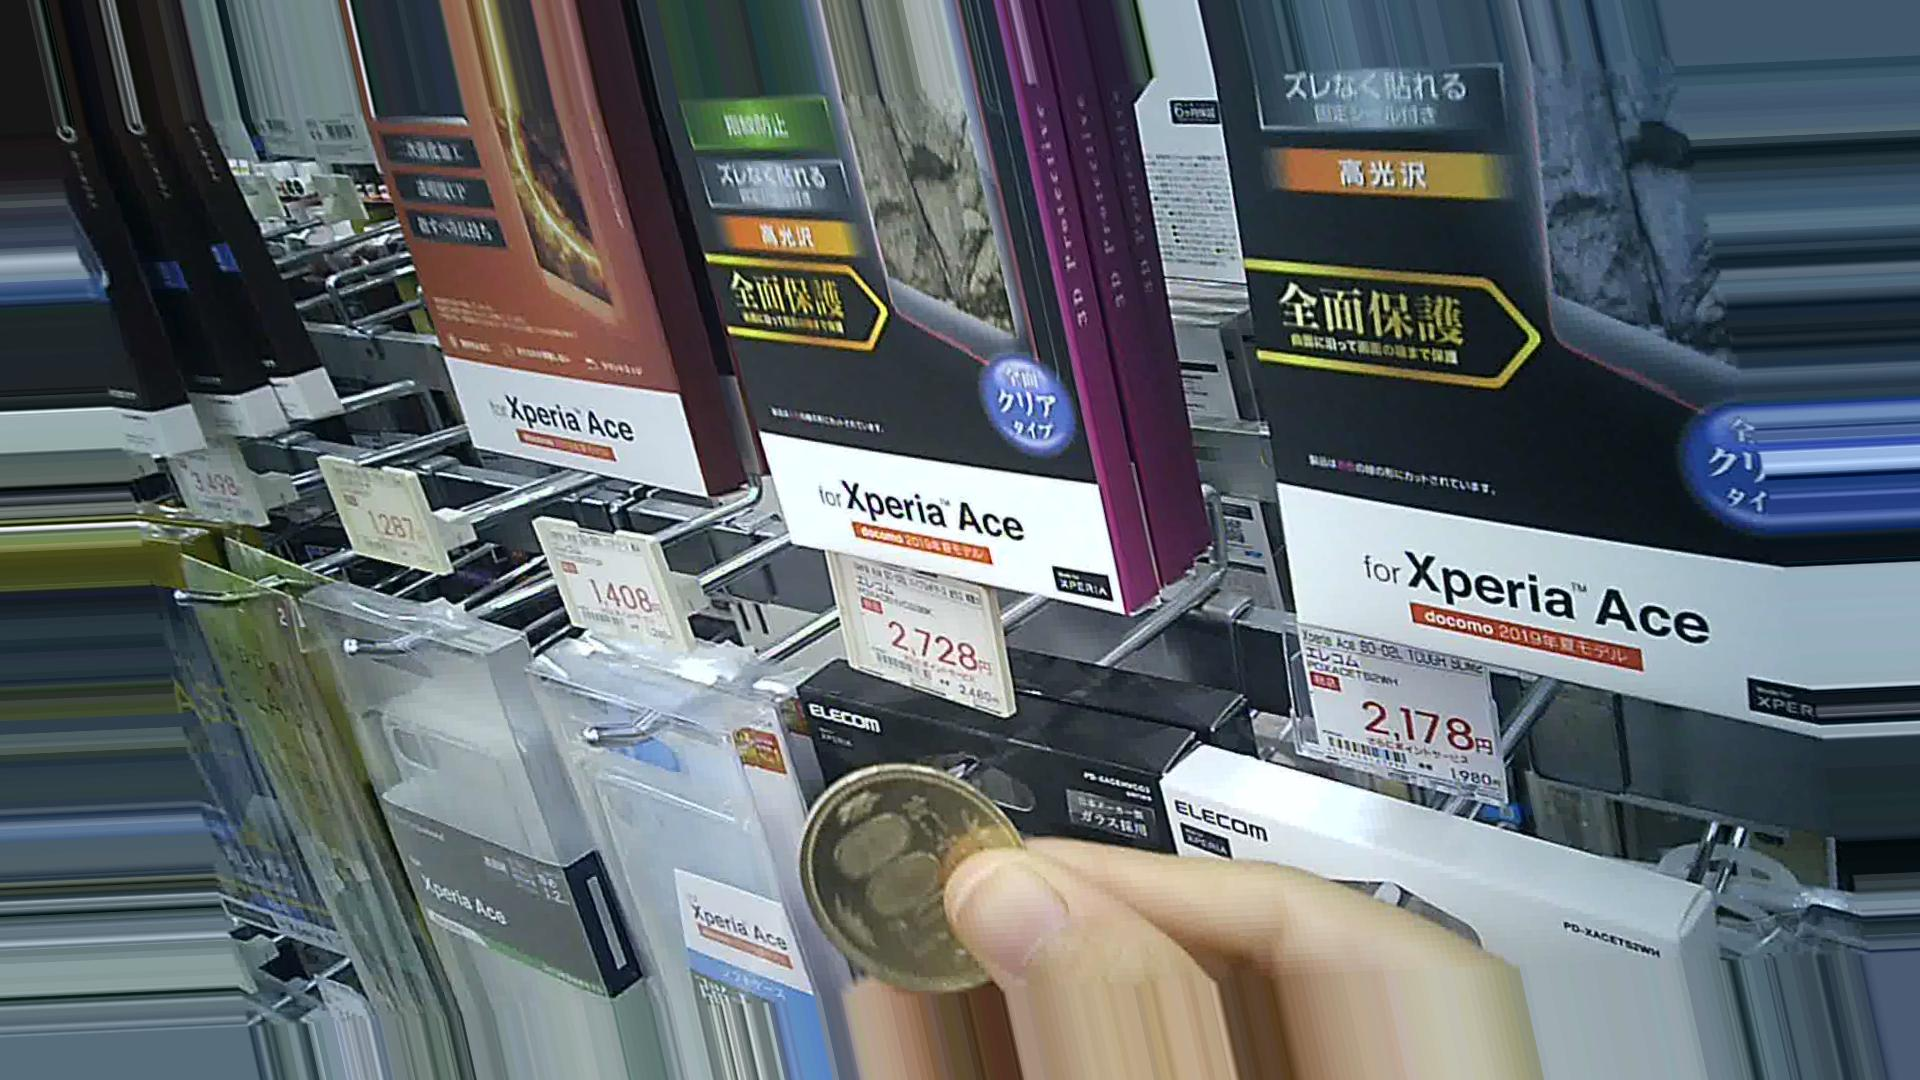500 Yen: (802, 758, 1038, 997)
